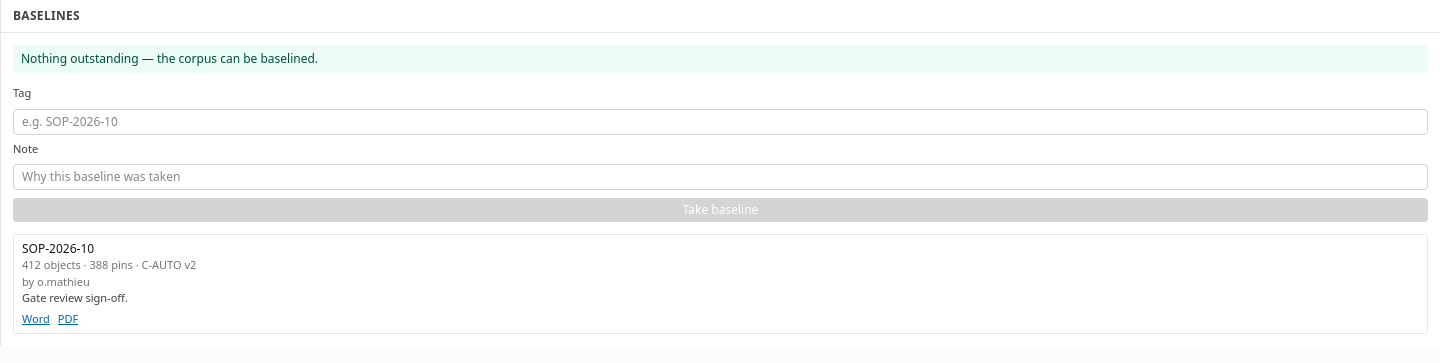
Test: taking a baseline › requires a tag the human chose
The image size is (1440, 363).
Expected: the button with test id "baseline-take" is disabled, x1=13 y1=198 x2=1428 y2=222
Type "SOP-2026-11" into the field with test id "baseline-tag" at (720, 122), box x1=13 y1=108 x2=1428 y2=134
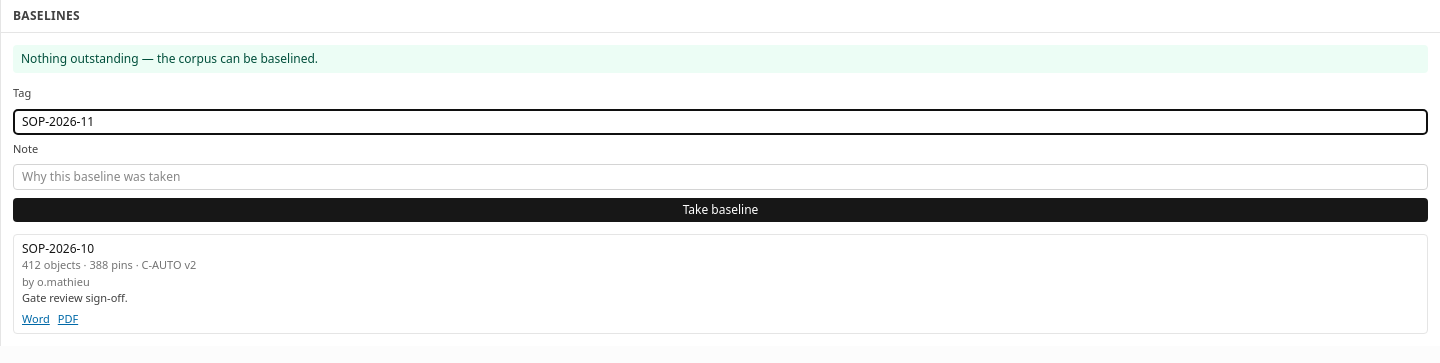
Result: the button with test id "baseline-take" is enabled at x1=13 y1=198 x2=1428 y2=222
